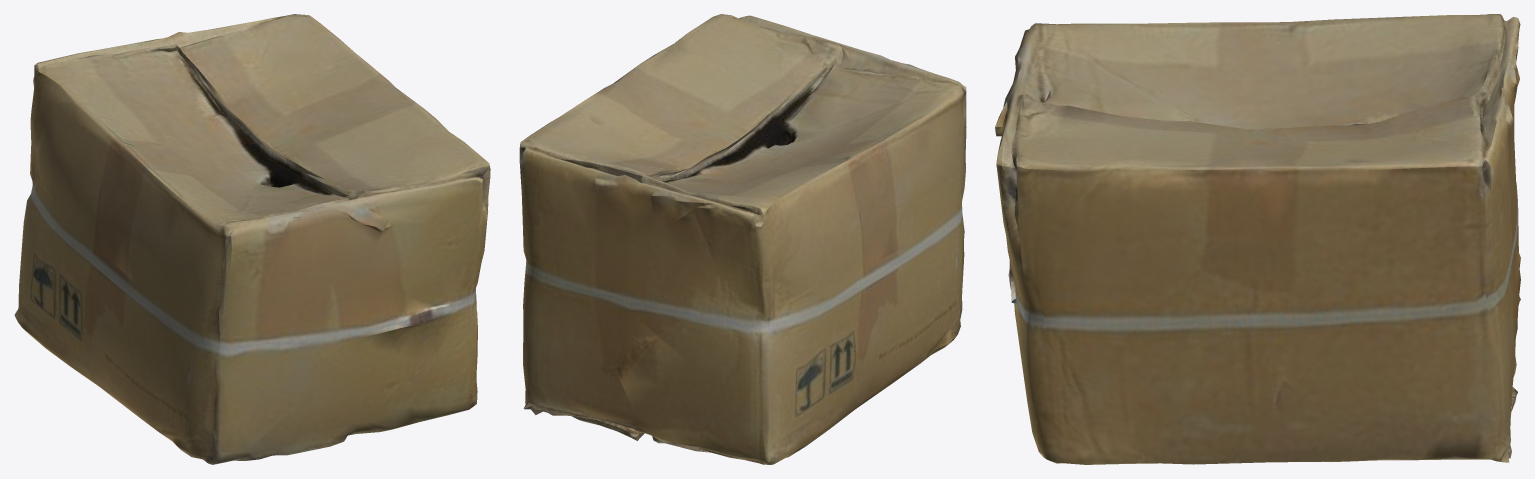
File: cardboard_box_01.glb
The picture shows the model from 3 angles, left to right: view 1: azimuth 30°, elevation 25°; view 2: azimuth 150°, elevation 25°; view 3: azimuth 270°, elevation 25°; orthographic projection. The views are drawn at different scales.
Visible parts, largest first — view 1: cardboard_box_01; view 2: cardboard_box_01; view 3: cardboard_box_01.
Boxes of the visible parts, x1,y1,x2,y2 form: cardboard_box_01: (14, 14, 490, 464); cardboard_box_01: (519, 14, 966, 464); cardboard_box_01: (995, 14, 1520, 464).
Size of the model in its own units: 0.3871 by 0.3415 by 0.5159.
Materials: 1 (1 with a texture image).
